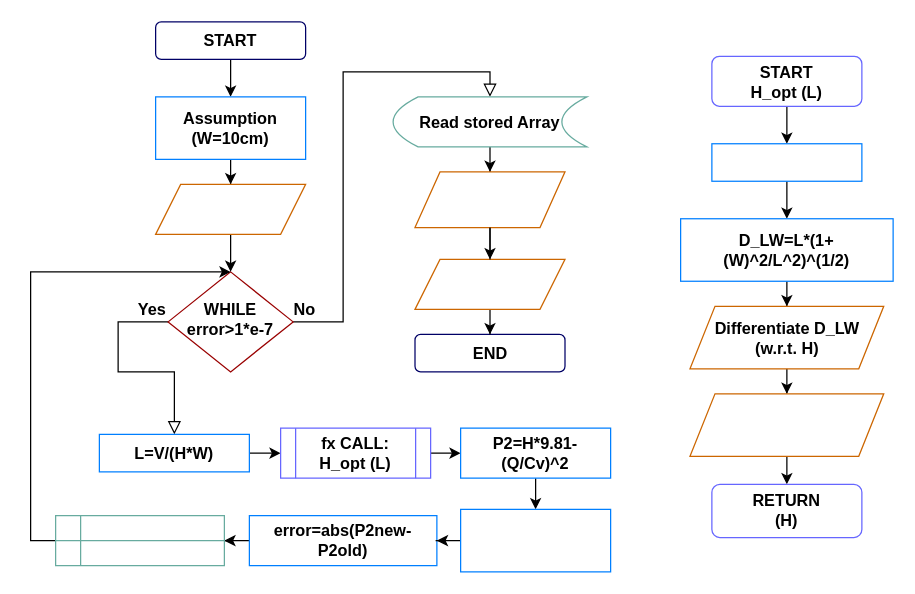
The diagram is 915 pixels wide and 594 high, and some of its shapes have lost their labels. Here are the shapes that lost their labels. From the top down, the centre of each, then its label:
point 786,161: W=1150/(L*H)
point 230,208: Initialize (P2, H)
point 489,199: Write Table (H, P)
point 489,283: Plot (H, P)
point 786,424: Solve: diff(D_LW)=0.6
point 139,540: Store Array (P2, H)
point 535,540: Cost fx: H=((Q/Cv)^2+P2)/9.8
